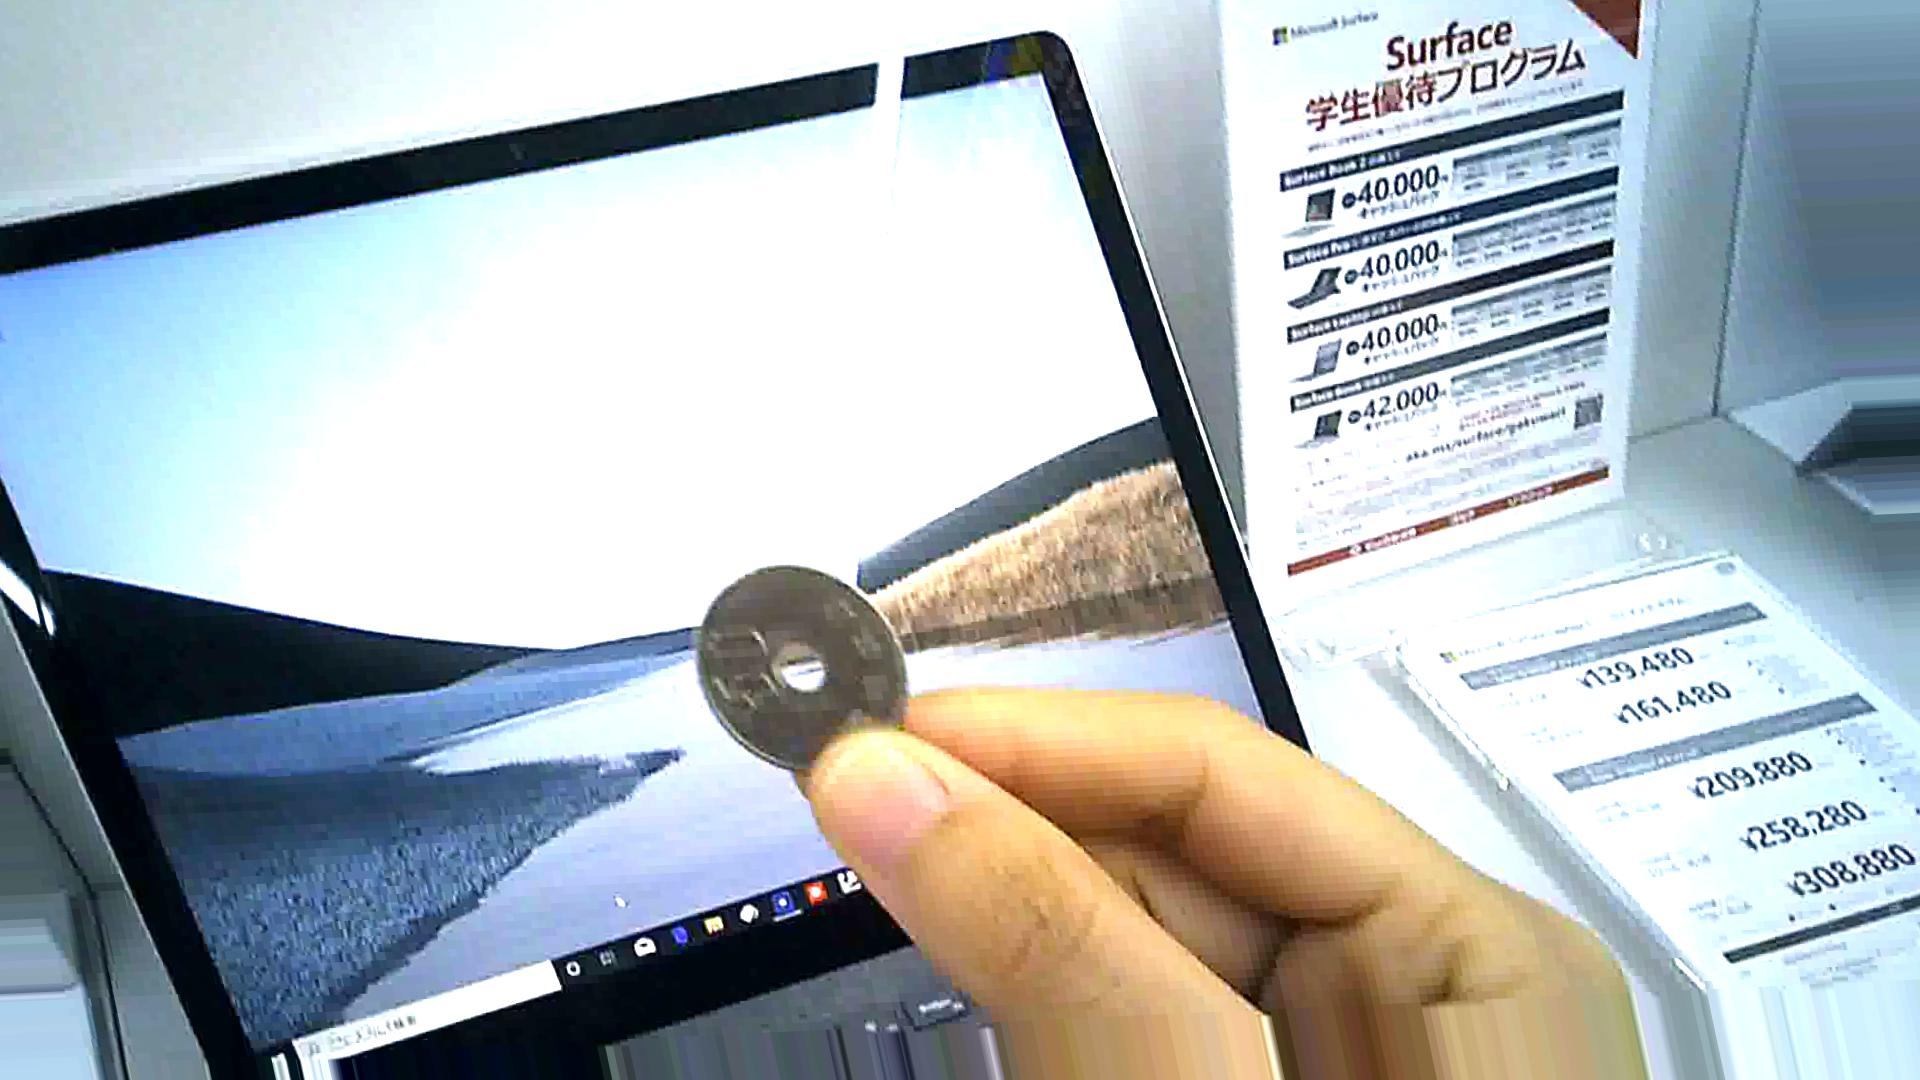50 Yen: (679, 564, 913, 770)
